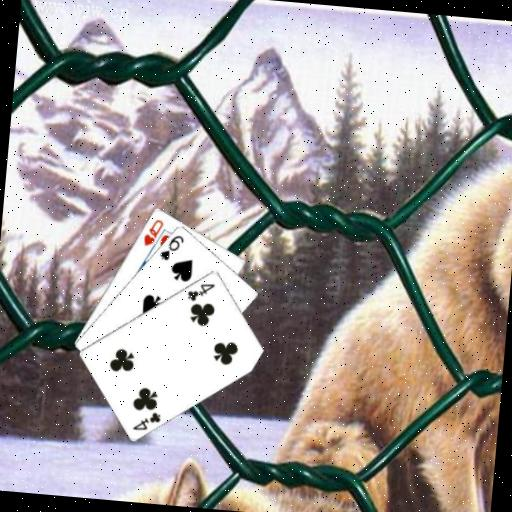4C: (184, 278, 217, 305), (130, 407, 163, 434)
6S: (156, 230, 186, 263)
QH: (140, 215, 166, 249)
